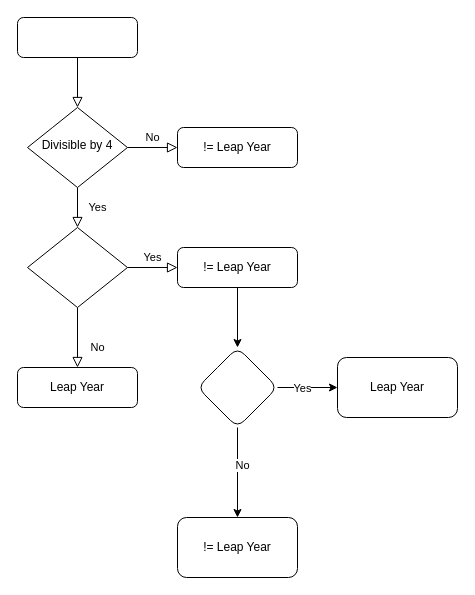
The diagram is 475 pixels wide and 595 high, and some of its shapes have lost their labels. The shapes that lost their labels are listed below. From the top down, each one's centre as x and y in pixels, then its label:
At [77,37]: "Year Entered".
At [77,267]: "Divisible by 100".
At [237,387]: "Divisible by 400".
